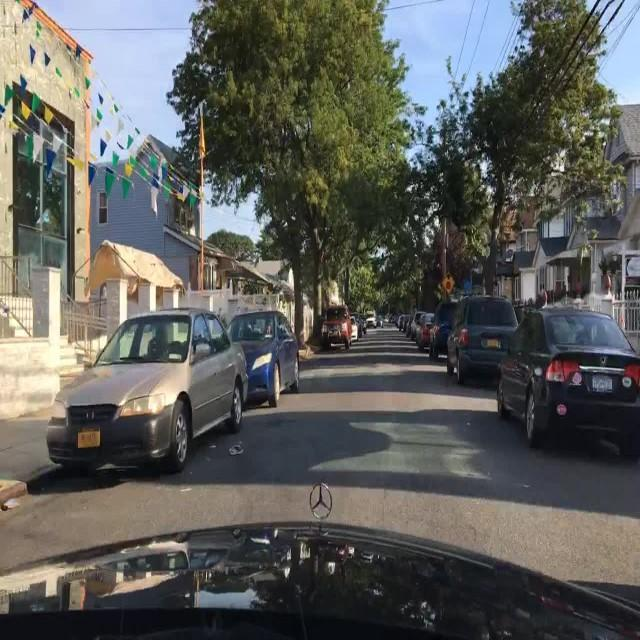normal: (43, 312, 246, 479), (494, 301, 640, 455), (225, 308, 298, 405), (447, 295, 523, 387), (413, 313, 438, 351)
